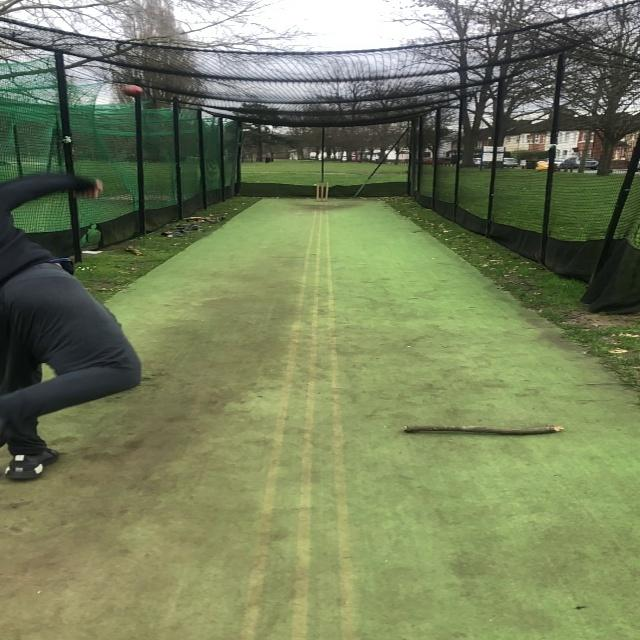ball: (122, 84, 144, 97)
